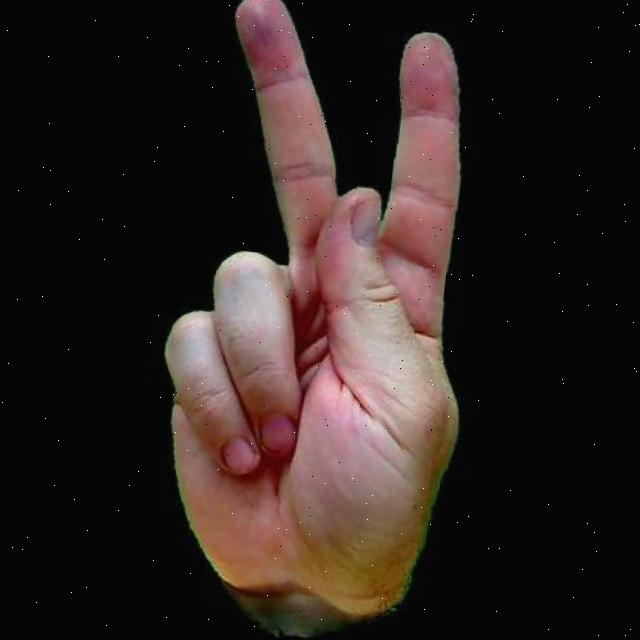k: (118, 0, 517, 640)
